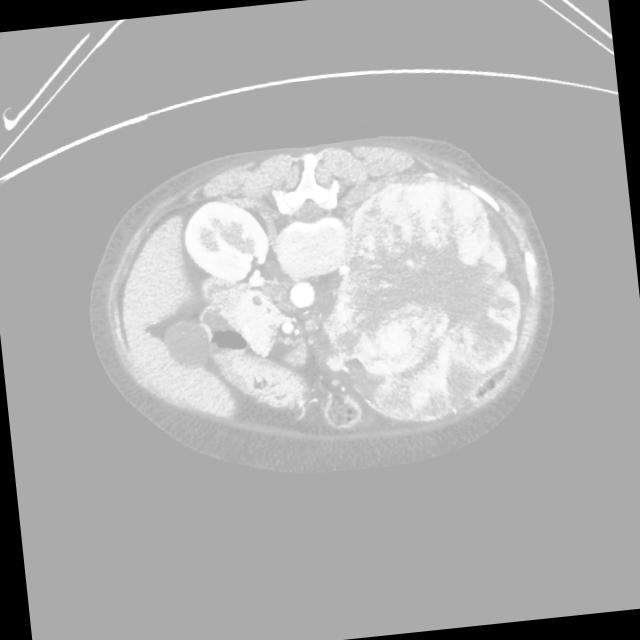TUMOR: (100, 183, 343, 401)
